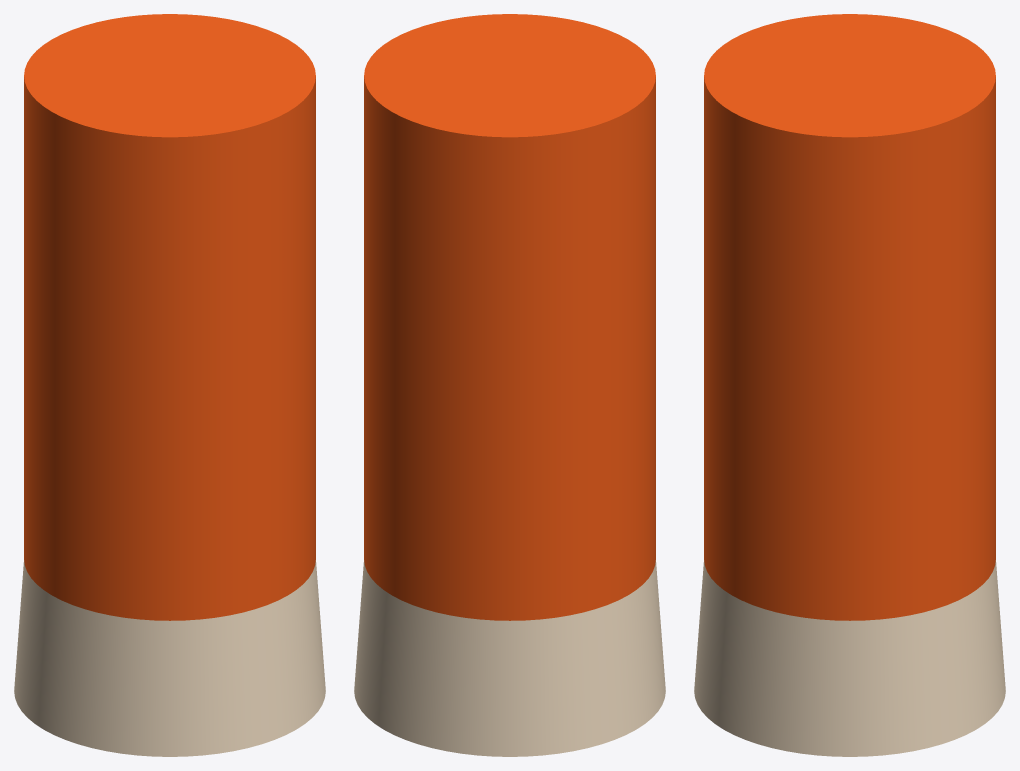
Rendered from Rdleg.obj.
3 views of the same model, side by side, from view 1: azimuth 30°, elevation 25°; view 2: azimuth 150°, elevation 25°; view 3: azimuth 270°, elevation 25° (orthographic).
Visible parts, largest first — view 1: pCylinder37, pCylinder36; view 2: pCylinder37, pCylinder36; view 3: pCylinder37, pCylinder36.
Boxes of the visible parts, left/top/right/bottom form: pCylinder37: left=24, top=14, right=315, bottom=620; pCylinder36: left=14, top=560, right=325, bottom=756; pCylinder37: left=364, top=14, right=655, bottom=620; pCylinder36: left=354, top=560, right=665, bottom=756; pCylinder37: left=704, top=14, right=995, bottom=620; pCylinder36: left=694, top=560, right=1005, bottom=756.
Size of the model in its own units: 0.6282 by 1.37 by 0.6282.
